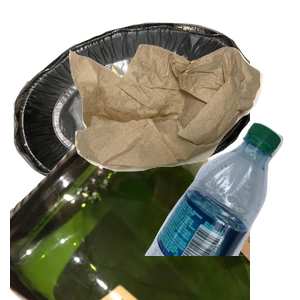glass: (10, 120, 250, 300)
metal: (11, 20, 251, 200)
plastic: (142, 120, 300, 300)
trash: (67, 42, 300, 206)
